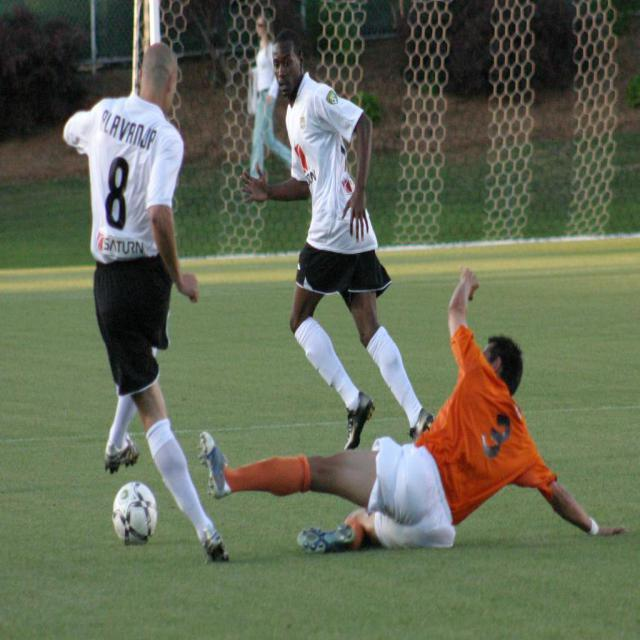football: (114, 464, 171, 552)
